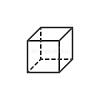cubos: (25, 25, 77, 78)
